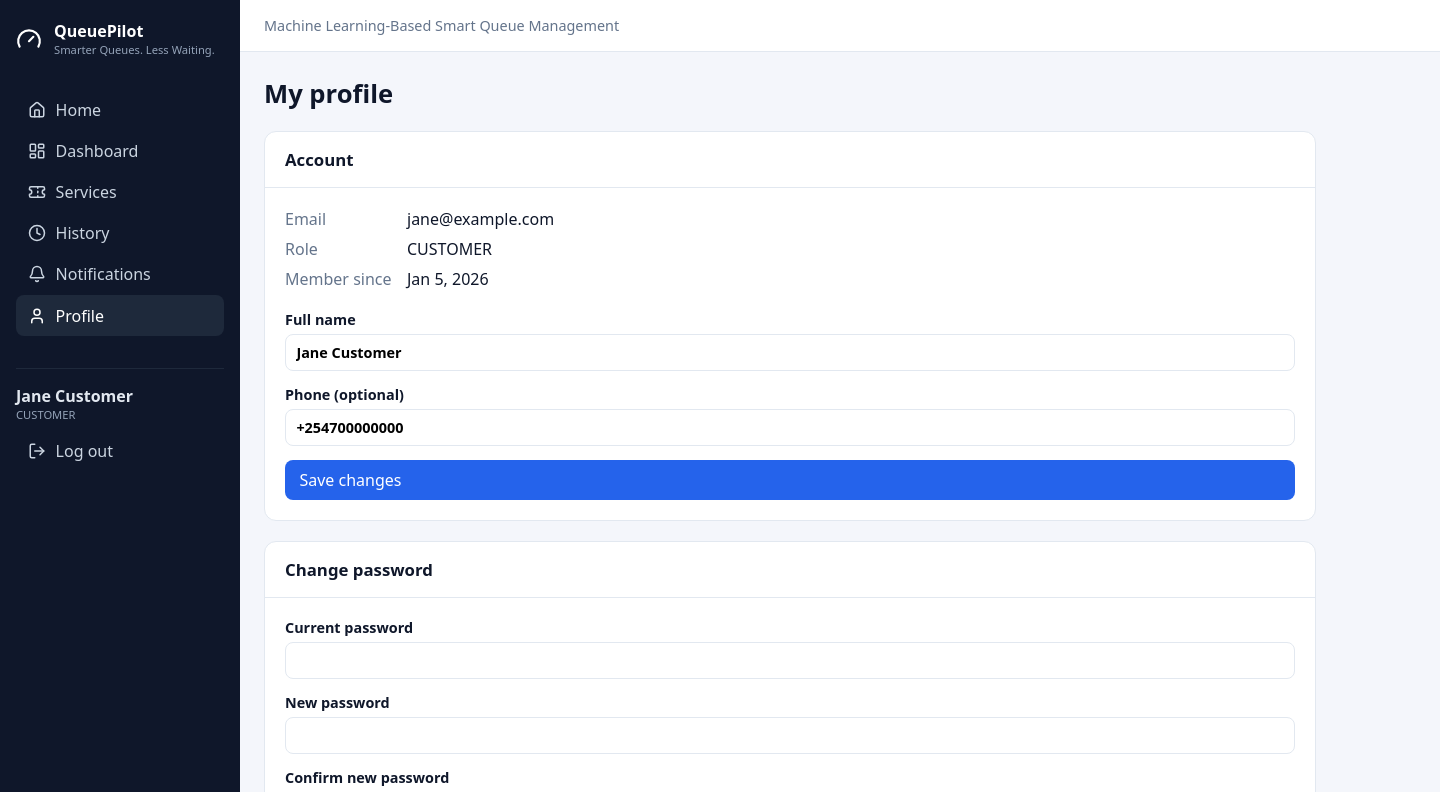
profile shows server validation errors
The image size is (1440, 792).
Replace the text in the field labelled "Phone (optional)" with "abc" at (790, 428), box [285, 409, 1295, 446]
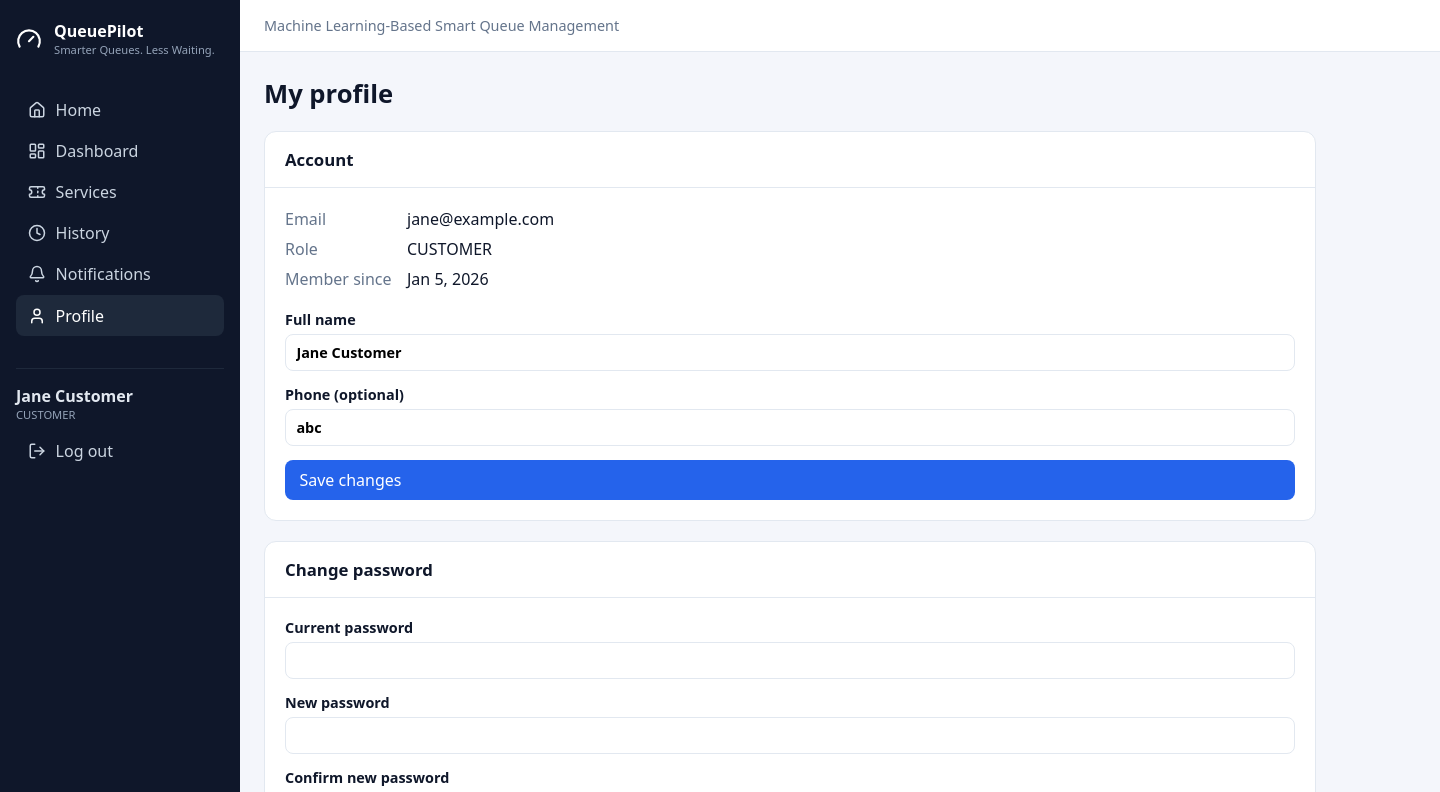
Click the button "Save changes" at (350, 480), box [285, 460, 1295, 500]
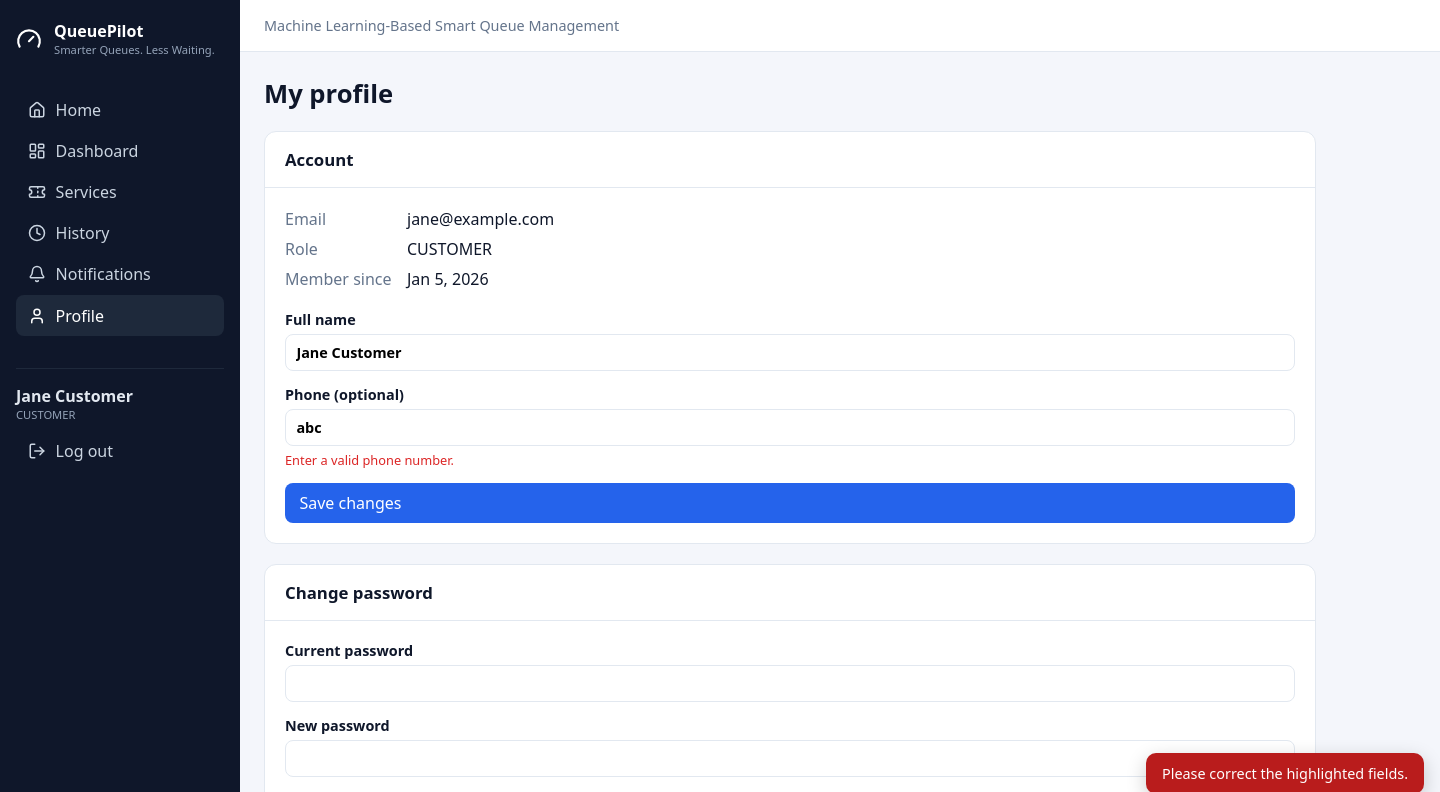
Now the text "Enter a valid phone number." is shown, box [285, 451, 454, 469]
